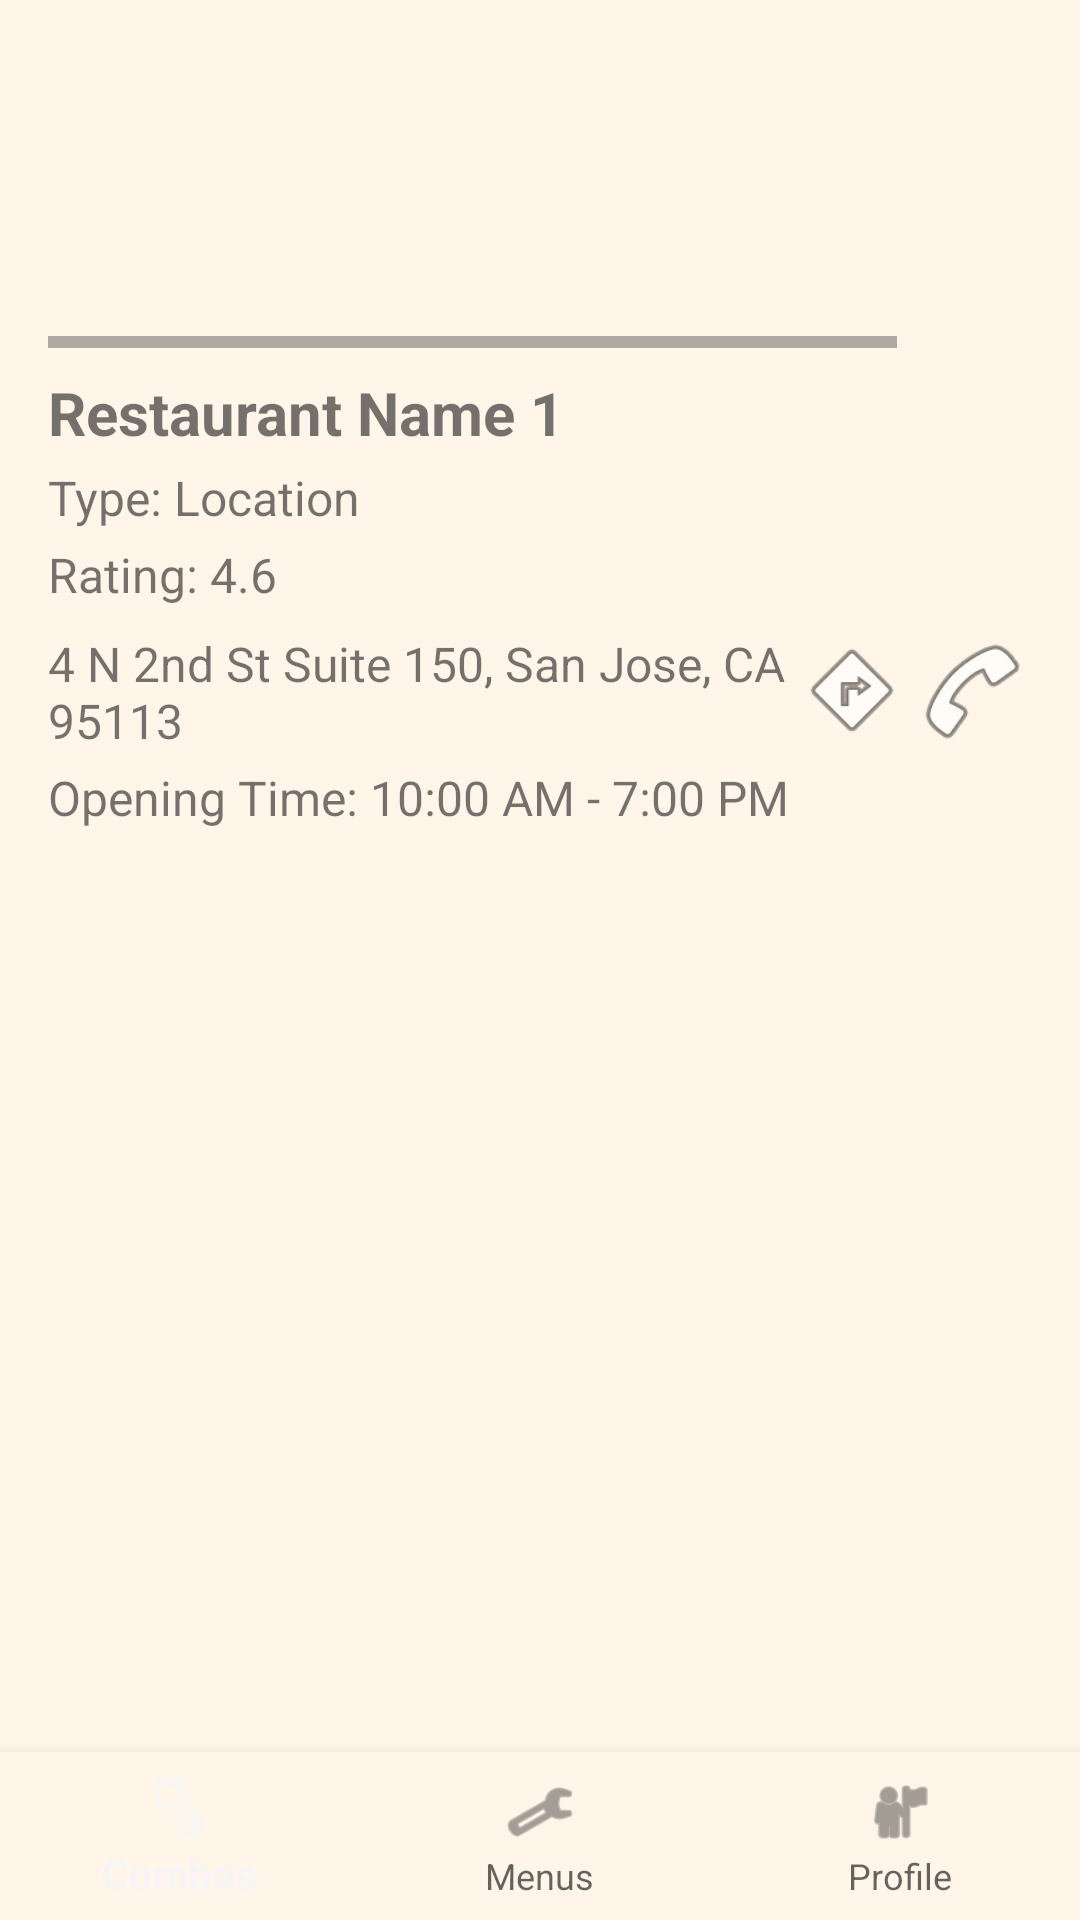

Named icons in this screenshot (1080x1920) and their centers, [x,y]:
Call: [973,692]
Navigate: [852,690]
